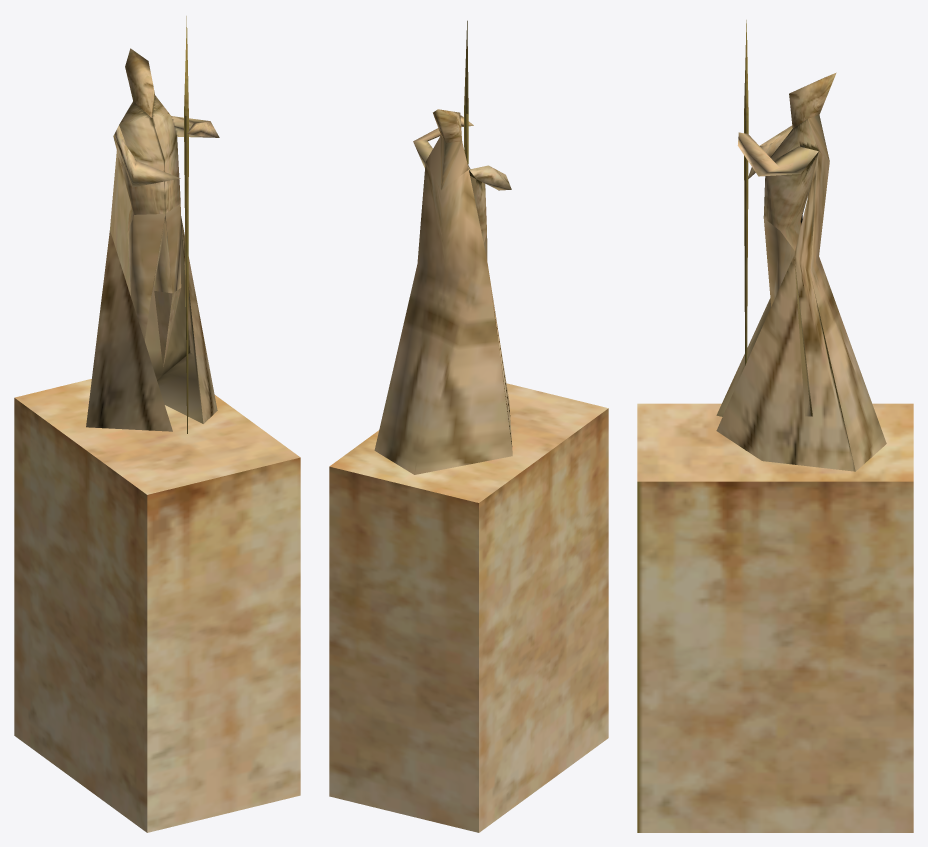
The model's file is thm_tato_guild_statue_freestand_s01_l3.fbx.
3 renders of one model, left to right at view 1: azimuth 30°, elevation 25°; view 2: azimuth 150°, elevation 25°; view 3: azimuth 270°, elevation 25°, orthographic. The views are drawn at different scales.
Parts seen in each view (by area): view 1: mesh_node; view 2: mesh_node; view 3: mesh_node.
Part boxes in pixels (x1,y1,x2,y2): mesh_node: [14, 16, 300, 832]; mesh_node: [329, 20, 608, 832]; mesh_node: [637, 20, 913, 832].
Bounding box in the file's own units: 2 × 9.44 × 3.
